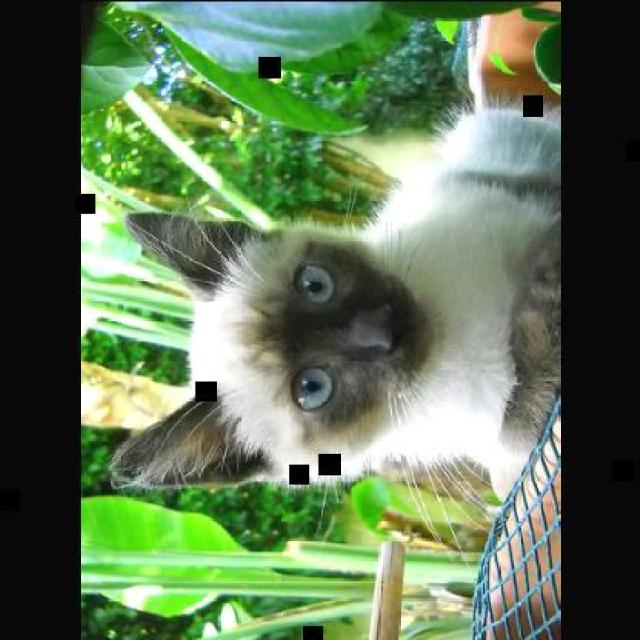unauthorized: (108, 89, 560, 548)
